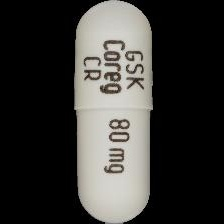68151-5051: (0, 0, 224, 224)
